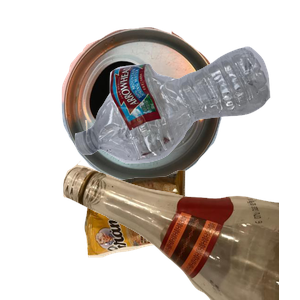glass: (60, 120, 300, 300)
metal: (59, 10, 273, 189)
plastic: (72, 44, 300, 200)
trash: (81, 168, 261, 300)
